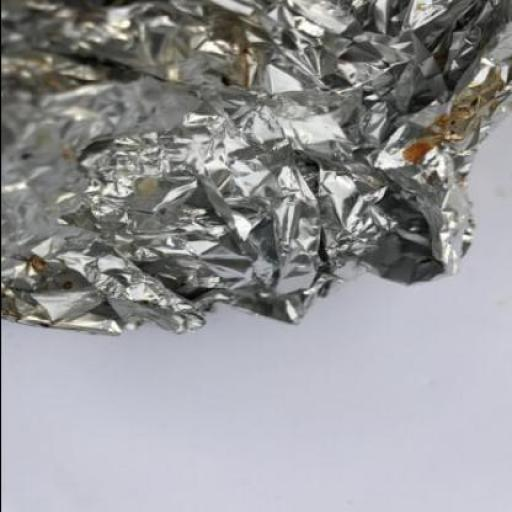metal: (1, 2, 511, 338)
